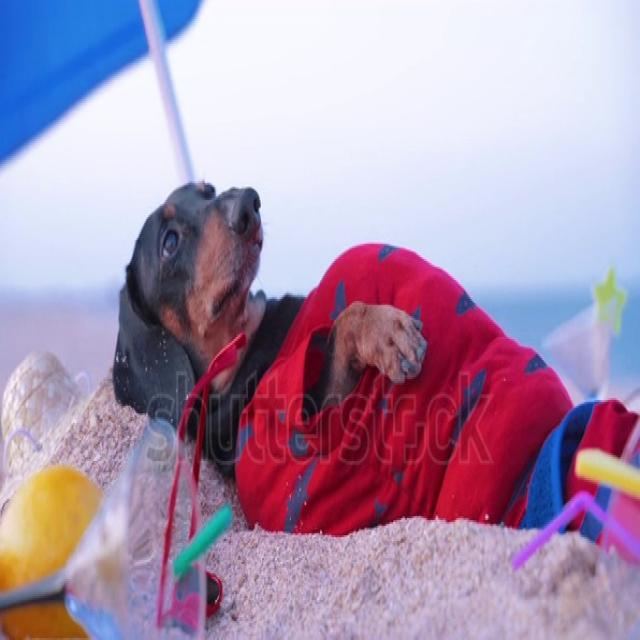normal_animals: (107, 172, 637, 568)
